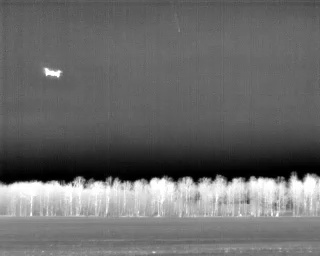DRONE: (39, 63, 65, 83)
